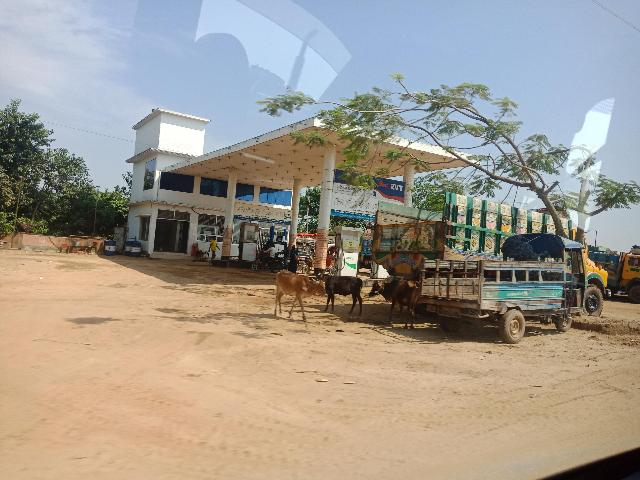motorcycle: (244, 242, 284, 278)
truck: (373, 189, 606, 320), (599, 237, 640, 306)
